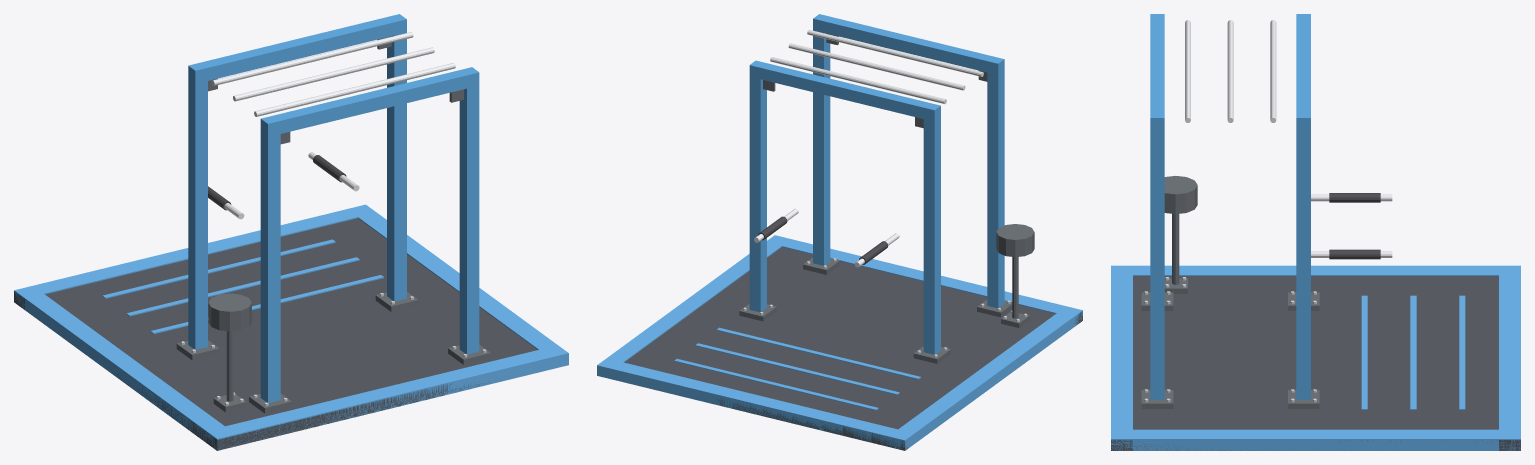
The model's file is Table2_PullUpBar.fbx.
The picture shows the model from 3 angles, left to right: view 1: azimuth 30°, elevation 25°; view 2: azimuth 150°, elevation 25°; view 3: azimuth 270°, elevation 25°; orthographic projection. The views are drawn at different scales.
Parts seen in each view (by area): view 1: Table2, Table2_RimNS_-1, Cube.015, Cube.019, Table2_RimEW_-1, Cube.017, Cube.021, Cube.023, Cube.026, Table2_RimNS_1, Table2_RimEW_1, Cylinder.068 (+7 smaller); view 2: Table2, Table2_RimNS_1, Cube.017, Table2_RimEW_-1, Cube.021, Cube.015, Cube.019, Cube.023, Cube.026, Table2_RimNS_-1, Table2_RimEW_1, Cylinder.068 (+6 smaller); view 3: Table2, Table2_RimEW_1, Cube.021, Cube.019, Table2_RimNS_-1, Table2_RimNS_1, Table2_RimEW_-1, Cube.026, Cube.023, Cylinder.068, Cube.031, Cube.030 (+9 smaller).
Part boxes in pixels (x1=…): Table2: x1=14, y1=218, x2=537, y2=450; Table2_RimNS_-1: x1=206, y1=345, x2=568, y2=449; Cube.015: x1=260, y1=115, x2=280, y2=402; Cube.019: x1=459, y1=67, x2=479, y2=354; Table2_RimEW_-1: x1=25, y1=293, x2=224, y2=442; Cube.017: x1=188, y1=66, x2=207, y2=349; Cube.021: x1=387, y1=19, x2=406, y2=301; Cube.023: x1=261, y1=67, x2=479, y2=136; Cube.026: x1=188, y1=14, x2=406, y2=82; Table2_RimNS_1: x1=14, y1=204, x2=376, y2=309; Table2_RimEW_1: x1=358, y1=212, x2=557, y2=349; Cylinder.068: x1=208, y1=293, x2=251, y2=331; Table2: x1=624, y1=247, x2=1082, y2=450; Table2_RimNS_1: x1=597, y1=358, x2=914, y2=450; Cube.017: x1=923, y1=103, x2=940, y2=354; Table2_RimEW_-1: x1=898, y1=313, x2=1073, y2=443; Cube.021: x1=749, y1=65, x2=766, y2=312; Cube.015: x1=987, y1=59, x2=1004, y2=308; Cube.019: x1=813, y1=17, x2=830, y2=265; Cube.023: x1=813, y1=14, x2=1004, y2=75; Cube.026: x1=750, y1=60, x2=940, y2=118; Table2_RimNS_-1: x1=767, y1=235, x2=1082, y2=327; Table2_RimEW_1: x1=607, y1=242, x2=781, y2=362; Cylinder.068: x1=996, y1=224, x2=1034, y2=257; Table2: x1=1111, y1=276, x2=1520, y2=450; Table2_RimEW_1: x1=1133, y1=429, x2=1498, y2=450; Cube.021: x1=1296, y1=112, x2=1310, y2=399; Cube.019: x1=1150, y1=114, x2=1164, y2=399; Table2_RimNS_-1: x1=1111, y1=265, x2=1132, y2=450; Table2_RimNS_1: x1=1499, y1=265, x2=1520, y2=450; Table2_RimEW_-1: x1=1133, y1=265, x2=1498, y2=275; Cube.026: x1=1296, y1=14, x2=1310, y2=130; Cube.023: x1=1150, y1=14, x2=1164, y2=130; Cylinder.068: x1=1164, y1=176, x2=1197, y2=214; Cube.031: x1=1410, y1=295, x2=1416, y2=409; Cube.030: x1=1361, y1=295, x2=1367, y2=409.
Bounding box in the file's own units: 3.36 × 3.36 × 2.7.
